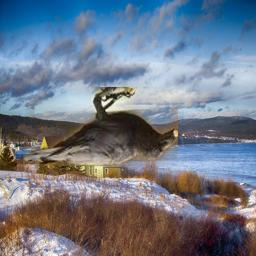Crow: (23, 87, 178, 166)
